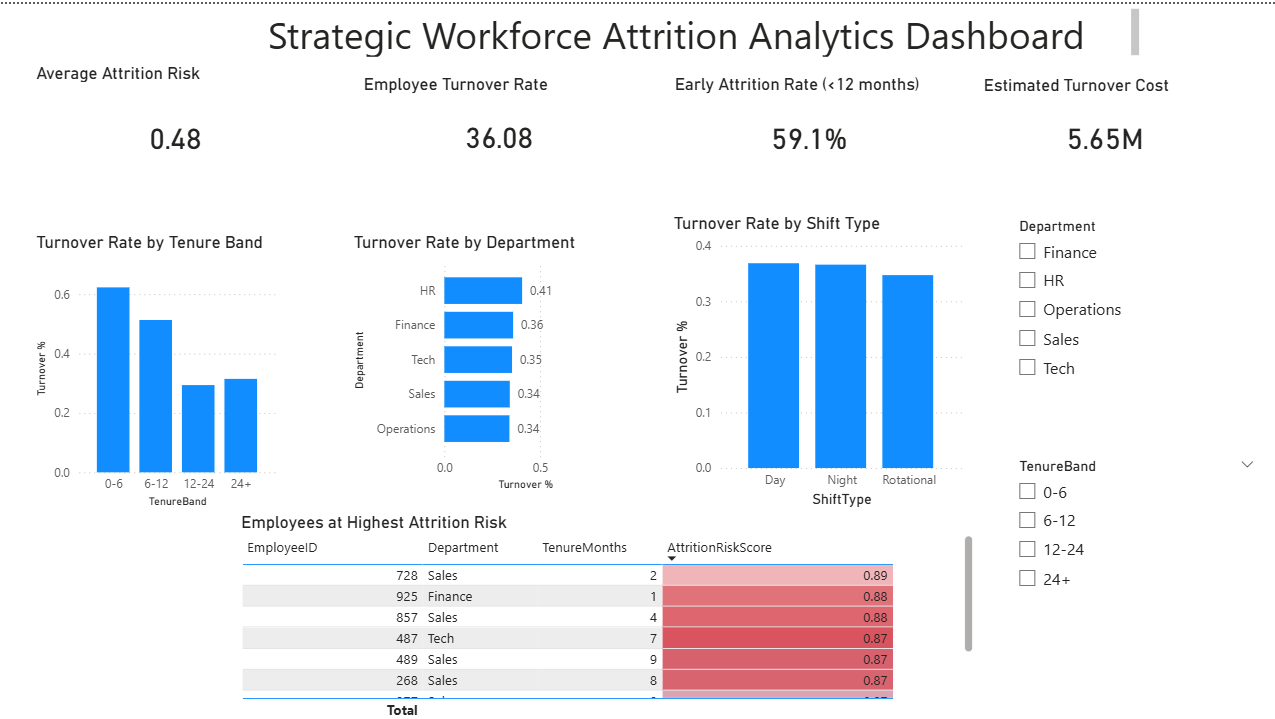

Layout of this report page (visuals, bound fields, positions):
{"tool":"powerbi","page":{"name":"Page 1","canvas":[1280,720],"ordinal":0},"visuals":[{"type":"card","title":"Average Attrition Risk","fields":{"Values":["processed_attrition_output.Avg Risk Score"]},"box":[31.3,58.9,288.8,128.8],"z":1000},{"type":"card","title":"Employee Turnover Rate","fields":{"Values":["processed_attrition_output.Overall Turnover %"]},"box":[358.7,69.9,281.5,104.9],"z":2000},{"type":"card","title":"Early Attrition Rate (<12 months)","fields":{"Values":["processed_attrition_output.Early Attrition %"]},"box":[669.6,69.9,277.8,106.7],"z":3000},{"type":"card","title":"Estimated Turnover Cost","fields":{"Values":["processed_attrition_output.Total Turnover Cost"]},"box":[978.7,71.7,252,104.9],"z":4000},{"type":"clusteredColumnChart","title":"Turnover Rate by Tenure Band","fields":{"Category":["processed_attrition_output.TenureBand"],"Y":["processed_attrition_output.Turnover %"]},"box":[31.4,227.3,249.4,280.8],"z":5000},{"type":"clusteredBarChart","title":"Turnover Rate by Department","fields":{"Category":["processed_attrition_output.Department"],"Y":["processed_attrition_output.Turnover %"]},"box":[349.2,227.3,271.6,264.2],"z":6000},{"type":"clusteredColumnChart","title":"Turnover Rate by Shift Type","fields":{"Y":["processed_attrition_output.Turnover %"],"Category":["processed_attrition_output.ShiftType"]},"box":[668.8,208.8,299.3,299.3],"z":7000},{"type":"slicer","fields":{"Values":["processed_attrition_output.TenureBand"]},"box":[1006.4,449.1,260,151.8],"z":8000},{"type":"slicer","fields":{"Values":["processed_attrition_output.Department"]},"box":[1006.4,209,273.7,179.1],"z":9000},{"type":"tableEx","title":"Employees at Highest Attrition Risk","fields":{"Values":["processed_attrition_output.EmployeeID","processed_attrition_output.Department","processed_attrition_output.TenureMonths","processed_attrition_output.AttritionRiskScore"]},"box":[236.4,507.1,742,212.6],"z":10000},{"type":"textbox","box":[217.1,0,926.4,58],"z":11000}]}

Visuals, with their boxes in screenshot pixels (x1, y1, x2, y2), scaled from the page's 1280x720 canvas onto the 1275x719 screenshot:
"Average Attrition Risk" card: x1=31, y1=59, x2=319, y2=187
"Employee Turnover Rate" card: x1=357, y1=70, x2=638, y2=175
"Early Attrition Rate (<12 months)" card: x1=667, y1=70, x2=944, y2=176
"Estimated Turnover Cost" card: x1=975, y1=72, x2=1226, y2=176
"Turnover Rate by Tenure Band" clusteredColumnChart: x1=31, y1=227, x2=280, y2=507
"Turnover Rate by Department" clusteredBarChart: x1=348, y1=227, x2=618, y2=491
"Turnover Rate by Shift Type" clusteredColumnChart: x1=666, y1=209, x2=964, y2=507
slicer - processed_attrition_output.TenureBand: x1=1002, y1=448, x2=1261, y2=600
slicer - processed_attrition_output.Department: x1=1002, y1=209, x2=1274, y2=388
"Employees at Highest Attrition Risk" tableEx: x1=235, y1=506, x2=975, y2=718
textbox: x1=216, y1=0, x2=1139, y2=58
